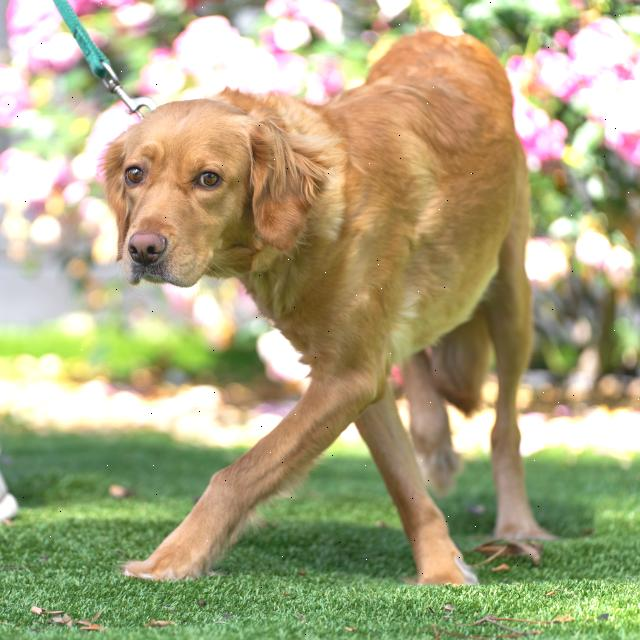golden_retriever_dog: (87, 72, 337, 315)
